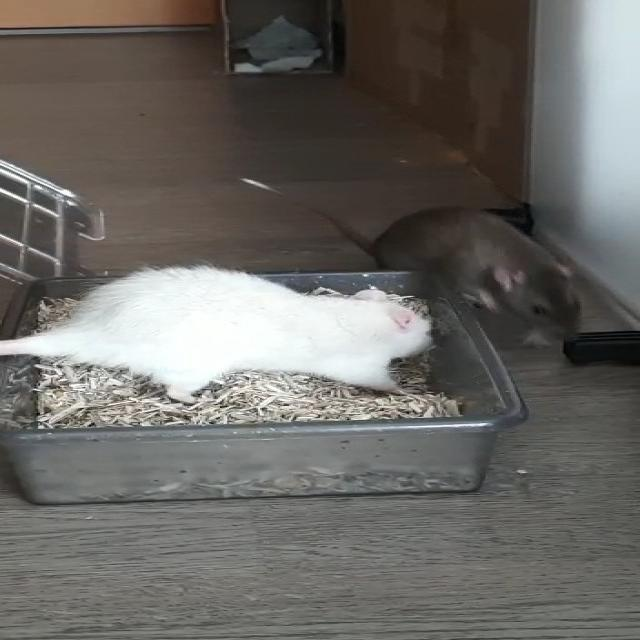rat: (73, 268, 440, 409), (377, 206, 589, 343)
